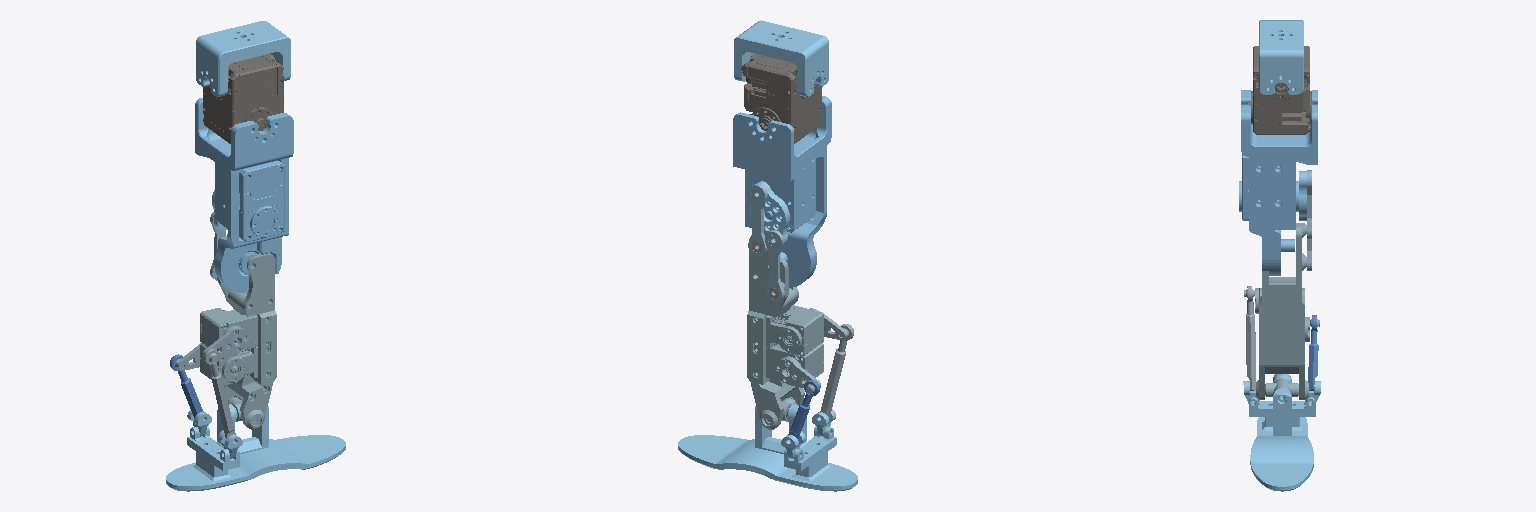
--- Render facts (derived) ---
3 views of the same robot in one strip: view 1: azimuth 30°, elevation 25°; view 2: azimuth 150°, elevation 25°; view 3: azimuth 270°, elevation 25° (orthographic).
Model right_leg_XM430 with 18 links and 17 joints (16 revolute, 1 fixed), rooted at hip_yaw_link, posed every joint at zero.
Visible links, largest first — view 1: right_hip_pitch_link_xm430, right_calf_link, right_sole_link, hip_roll_link, hip_yaw_link, ank_roll_link, ank_motor_rod_long, ank_motor_arm, ank_motor_rod_short; view 2: right_hip_pitch_link_xm430, right_calf_link, right_sole_link, hip_roll_link, hip_yaw_link, ank_roll_link, knee_rod, knee_rod_2, xm430_plate, ank_motor_rod_long, ank_motor_arm_2, ank_motor_rod_short; view 3: right_hip_pitch_link_xm430, right_calf_link, right_sole_link, hip_yaw_link, hip_roll_link, ank_roll_link, ank_motor_rod_long, ank_motor_rod_short.
Link boxes in pixels (x1,y1,x2,y2): right_hip_pitch_link_xm430: (195,98,293,292); right_calf_link: (200,253,276,429); right_sole_link: (166,435,345,491); hip_roll_link: (203,54,283,143); hip_yaw_link: (196,21,290,96); ank_roll_link: (187,404,268,470); ank_motor_rod_long: (204,348,235,438); ank_motor_arm: (203,327,248,362); ank_motor_rod_short: (170,354,202,418); right_hip_pitch_link_xm430: (733,96,831,287); right_calf_link: (747,239,823,429); right_sole_link: (678,435,857,491); hip_roll_link: (741,54,821,143); hip_yaw_link: (734,20,828,96); ank_roll_link: (755,404,836,470); knee_rod: (748,184,767,256); knee_rod_2: (765,230,784,302); xm430_plate: (749,181,789,243); ank_motor_rod_long: (820,324,853,418); ank_motor_arm_2: (775,358,820,393); ank_motor_rod_short: (788,380,819,438); right_hip_pitch_link_xm430: (1239,90,1317,275); right_calf_link: (1256,223,1308,399); right_sole_link: (1250,417,1313,491); hip_yaw_link: (1259,20,1303,94); hip_roll_link: (1248,46,1312,134); ank_roll_link: (1249,374,1315,435); ank_motor_rod_long: (1246,286,1255,390); ank_motor_rod_short: (1308,315,1318,390).
Size in the robot's own frame: 0.12 by 0.0516 by 0.285 metres.
Meshes: 18 distinct files referenced, 18 mesh visuals loaded (18 binary STL).

The robot description file, URDF, robot "right_leg_XM430":
<?xml version="1.0" ?><robot name="right_leg_XM430">  
  <link name="hip_yaw_link">    
    <visual>      
      <origin xyz="0 0 0" rpy="0 -0 0"/>      
      <geometry>        
        <mesh filename="package:///meshes/right_hip_yaw_link_visual.stl"/>        
      </geometry>      
      <material name="hip_yaw_link_material">        
        <color rgba="0.61568627450980395466 0.81176470588235294379 0.92941176470588238168 1.0"/>        
      </material>      
    </visual>    
    <collision>      
      <origin xyz="0 0 0" rpy="0 -0 0"/>      
      <geometry>        
        <mesh filename="package:///meshes/right_hip_yaw_link_collision.stl"/>        
      </geometry>      
    </collision>    
    <inertial>      
      <origin xyz="-6.7015689604249926662e-20 4.3918015011849180404e-19 -0.0098390489054829104176" rpy="0 0 0"/>      
      <mass value="0.017999999999999995171"/>      
      <inertia ixx="2.638503389144253662e-06" ixy="0" ixz="0" iyy="7.6596731957046890345e-06" iyz="0" izz="7.7220708070894769837e-06"/>      
    </inertial>    
  </link>  

  <link name="hip_roll_link">    
    <visual>      
      <origin xyz="0 0 0" rpy="0 -0 0"/>      
      <geometry>        
        <mesh filename="package:///meshes/right_hip_roll_link_visual.stl"/>        
      </geometry>      
      <material name="hip_roll_link_material">        
        <color rgba="0.51698661238356036218 0.50347815951093466413 0.49050589017722012741 1.0"/>        
      </material>      
    </visual>    
    <collision>      
      <origin xyz="0 0 0" rpy="0 -0 0"/>      
      <geometry>        
        <mesh filename="package:///meshes/right_hip_roll_link_collision.stl"/>        
      </geometry>      
    </collision>    
    <inertial>      
      <origin xyz="-0.011999849582182768939 -0.00049598090794319320881 -0.018504111838597472883" rpy="0 0 0"/>      
      <mass value="0.10699970659110669136"/>      
      <inertia ixx="2.2075996228675266026e-05" ixy="-4.50058018289495008e-08" ixz="-4.5362214342475956034e-08" iyy="2.9866686933523323838e-05" iyz="-5.5606319466522003496e-07" izz="2.9866720157735093328e-05"/>      
    </inertial>    
  </link>  

  <link name="right_hip_pitch_link_xm430">    
    <visual>      
      <origin xyz="0 0 0" rpy="0 -0 0"/>      
      <geometry>        
        <mesh filename="package:///meshes/right_hip_pitch_link_xm430_visual.stl"/>        
      </geometry>      
      <material name="right_hip_pitch_link_xm430_material">        
        <color rgba="0.57975821272406502516 0.77143728959223789587 0.90851483081009554166 1.0"/>        
      </material>      
    </visual>    
    <collision>      
      <origin xyz="0 0 0" rpy="0 -0 0"/>      
      <geometry>        
        <mesh filename="package:///meshes/right_hip_pitch_link_xm430_collision.stl"/>        
      </geometry>      
    </collision>    
    <inertial>      
      <origin xyz="0.0025369940892301435544 -0.053177222976062685222 -0.015212667045966776422" rpy="0 0 0"/>      
      <mass value="0.029200901345856088154"/>      
      <inertia ixx="4.1359210165692305292e-05" ixy="2.8846904860009788469e-07" ixz="3.5209134634345168732e-09" iyy="9.0572095101179097984e-06" iyz="1.6889923798545578151e-06" izz="4.074145340165466261e-05"/>      
    </inertial>    
  </link>  

  <link name="right_calf_link">    
    <visual>      
      <origin xyz="0 0 0" rpy="0 -0 0"/>      
      <geometry>        
        <mesh filename="package:///meshes/right_calf_link_visual.stl"/>        
      </geometry>      
      <material name="right_calf_link_material">        
        <color rgba="0.61177930930733637194 0.71653254923097875473 0.74989274724786592063 1.0"/>        
      </material>      
    </visual>    
    <collision>      
      <origin xyz="0 0 0" rpy="0 -0 0"/>      
      <geometry>        
        <mesh filename="package:///meshes/right_calf_link_collision.stl"/>        
      </geometry>      
    </collision>    
    <inertial>      
      <origin xyz="0.0011880884108858465187 0.049643066575010608155 -0.0098634853265740091155" rpy="0 0 0"/>      
      <mass value="0.079607494529051442411"/>      
      <inertia ixx="4.8056790185738505847e-05" ixy="-3.5190664140523731458e-06" ixz="3.9918569370880469757e-07" iyy="1.4293033414473552055e-05" iyz="-4.8654596308570628042e-07" izz="5.1185953583038329819e-05"/>      
    </inertial>    
  </link>  

  <link name="bearing_683">    
    <visual>      
      <origin xyz="0 0 0" rpy="0 -0 0"/>      
      <geometry>        
        <mesh filename="package:///meshes/right_bearing_683_visual.stl"/>        
      </geometry>      
      <material name="bearing_683_material">        
        <color rgba="0.64705882352941179736 0.64705882352941179736 0.64705882352941179736 1.0"/>        
      </material>      
    </visual>    
    <collision>      
      <origin xyz="0 0 0" rpy="0 -0 0"/>      
      <geometry>        
        <mesh filename="package:///meshes/right_bearing_683_collision.stl"/>        
      </geometry>      
    </collision>    
    <inertial>      
      <origin xyz="1.0732094295238763188e-19 2.4186774283159686951e-19 -0.0015499999999999982108" rpy="0 0 0"/>      
      <mass value="0.00048694686130641793437"/>      
      <inertia ixx="2.1551456503319887385e-09" ixy="-2.9294495027892568051e-27" ixz="9.2988683363002032047e-39" iyy="2.1551456503319891521e-09" iyz="-6.9734227591432482265e-38" izz="3.5303647444715305817e-09"/>      
    </inertial>    
  </link>  

  <joint name="right_knee_front_rev_2" type="revolute">    
    <origin xyz="-0.0057402514854763431879 -0.013858192987669298857 -0.026199999999999994127" rpy="-5.4477346283033895825e-15 1.0965747154702311575e-14 3.1358007158040965834"/>    
    <parent link="right_calf_link"/>    
    <child link="bearing_683"/>    
    <axis xyz="0 0 1"/>    
    <limit effort="1" velocity="20" lower="-6.283185307179586232" upper="6.283185307179586232"/>    
    <joint_properties friction="0.0"/>    
  </joint>  

  <link name="bearing_683_2">    
    <visual>      
      <origin xyz="0 0 0" rpy="0 -0 0"/>      
      <geometry>        
        <mesh filename="package:///meshes/right_bearing_683_2_visual.stl"/>        
      </geometry>      
      <material name="bearing_683_2_material">        
        <color rgba="0.64705882352941179736 0.64705882352941179736 0.64705882352941179736 1.0"/>        
      </material>      
    </visual>    
    <collision>      
      <origin xyz="0 0 0" rpy="0 -0 0"/>      
      <geometry>        
        <mesh filename="package:///meshes/right_bearing_683_2_collision.stl"/>        
      </geometry>      
    </collision>    
    <inertial>      
      <origin xyz="9.7468268094080836801e-19 2.4186774283165874001e-19 -0.0015499999999999977771" rpy="0 0 0"/>      
      <mass value="0.00048694686130641793437"/>      
      <inertia ixx="2.1551456503319887385e-09" ixy="-1.2055502399488045527e-29" ixz="6.0530663080618900365e-38" iyy="2.1551456503319891521e-09" iyz="6.329646417650877137e-38" izz="3.5303647444715322361e-09"/>      
    </inertial>    
  </link>  

  <joint name="right_knee_back_rev_2" type="revolute">    
    <origin xyz="0.0057402514854763726782 0.013858192987669298857 -0.026200000000000001066" rpy="-1.8771482682971376925e-15 -9.8530873122510239724e-18 3.1357969761587902724"/>    
    <parent link="right_calf_link"/>    
    <child link="bearing_683_2"/>    
    <axis xyz="0 0 1"/>    
    <limit effort="1" velocity="20" lower="-6.283185307179586232" upper="6.283185307179586232"/>    
    <joint_properties friction="0.0"/>    
  </joint>  

  <link name="ank_pitch_link">    
    <visual>      
      <origin xyz="0 0 0" rpy="0 -0 0"/>      
      <geometry>        
        <mesh filename="package:///meshes/right_ank_pitch_link_visual.stl"/>        
      </geometry>      
      <material name="ank_pitch_link_material">        
        <color rgba="0.63189161126160264814 0.7266866879354088038 0.78356373393969258601 1.0"/>        
      </material>      
    </visual>    
    <collision>      
      <origin xyz="0 0 0" rpy="0 -0 0"/>      
      <geometry>        
        <mesh filename="package:///meshes/right_ank_pitch_link_collision.stl"/>        
      </geometry>      
    </collision>    
    <inertial>      
      <origin xyz="0.00059528282565905667884 -4.0269682589415725122e-08 7.7616094188425227177e-08" rpy="0 0 0"/>      
      <mass value="0.0042238381753791614387"/>      
      <inertia ixx="3.9782741364675321991e-07" ixy="-1.6834347649910148831e-13" ixz="2.0919192021941485552e-14" iyy="4.3705254067418651898e-07" iyz="-1.6428822141780806979e-12" izz="8.8858574534600111529e-08"/>      
    </inertial>    
  </link>  

  <link name="ank_roll_link">    
    <visual>      
      <origin xyz="0 0 0" rpy="0 -0 0"/>      
      <geometry>        
        <mesh filename="package:///meshes/right_ank_roll_link_visual.stl"/>        
      </geometry>      
      <material name="ank_roll_link_material">        
        <color rgba="0.61568627450980395466 0.81176470588235294379 0.92941176470588238168 1.0"/>        
      </material>      
    </visual>    
    <collision>      
      <origin xyz="0 0 0" rpy="0 -0 0"/>      
      <geometry>        
        <mesh filename="package:///meshes/right_ank_roll_link_collision.stl"/>        
      </geometry>      
    </collision>    
    <inertial>      
      <origin xyz="-3.374897775305092037e-09 0.016071733707723714207 -0.0096236810250137777567" rpy="0 0 0"/>      
      <mass value="0.010900000000000006906"/>      
      <inertia ixx="2.6058536057764959133e-06" ixy="-5.4054321086197607014e-13" ixz="6.0692549095841946231e-13" iyy="2.5928781338360460482e-06" iyz="3.9359839679282425038e-07" izz="1.6179884211196010928e-06"/>      
    </inertial>    
  </link>  

  <link name="ank_rr_link">    
    <visual>      
      <origin xyz="0 0 0" rpy="0 -0 0"/>      
      <geometry>        
        <mesh filename="package:///meshes/right_ank_rr_link_visual.stl"/>        
      </geometry>      
      <material name="ank_rr_link_material">        
        <color rgba="0.61568627450980395466 0.81176470588235294379 0.92941176470588238168 1.0"/>        
      </material>      
    </visual>    
    <collision>      
      <origin xyz="0 0 0" rpy="0 -0 0"/>      
      <geometry>        
        <mesh filename="package:///meshes/right_ank_rr_link_collision.stl"/>        
      </geometry>      
    </collision>    
    <inertial>      
      <origin xyz="-4.5249610960602422048e-05 -0.0063096429836314027462 1.9359077708117763666e-19" rpy="0 0 0"/>      
      <mass value="0.0014499999999999999001"/>      
      <inertia ixx="2.9739579267716163268e-08" ixy="-2.4213146797978005064e-10" ixz="-3.5523394884482601788e-14" iyy="2.7430027724071950438e-08" iyz="-9.2286660723348399955e-32" izz="4.2921949116163665819e-08"/>      
    </inertial>    
  </link>  

  <link name="ank_motor_rod_long">    
    <visual>      
      <origin xyz="0 0 0" rpy="0 -0 0"/>      
      <geometry>        
        <mesh filename="package:///meshes/right_ank_motor_rod_long_visual.stl"/>        
      </geometry>      
      <material name="ank_motor_rod_long_material">        
        <color rgba="0.63549975559783222767 0.7077439301702044272 0.75109043491362781353 1.0"/>        
      </material>      
    </visual>    
    <collision>      
      <origin xyz="0 0 0" rpy="0 -0 0"/>      
      <geometry>        
        <mesh filename="package:///meshes/right_ank_motor_rod_long_collision.stl"/>        
      </geometry>      
    </collision>    
    <inertial>      
      <origin xyz="2.4855086429196933828e-10 0.034559019974062202274 0.00093851704878448538941" rpy="0 0 0"/>      
      <mass value="0.0021712857268636714773"/>      
      <inertia ixx="8.5350290057999892598e-07" ixy="1.4884244311377931608e-14" ixz="4.5749525025513695314e-11" iyy="1.3237321792739358999e-08" iyz="-4.3668910960836045554e-09" izz="8.5812217519451249942e-07"/>      
    </inertial>    
  </link>  

  <joint name="right_ank_long_rev_2" type="revolute">    
    <origin xyz="3.4694469519536141888e-18 -0.0099999999999998423483 1.0408340855860842566e-17" rpy="-1.570796326794896558 -1.3320366994106278558 -1.5707963267948821251"/>    
    <parent link="ank_rr_link"/>    
    <child link="ank_motor_rod_long"/>    
    <axis xyz="0 0 1"/>    
    <limit effort="1" velocity="20" lower="-1.570796326794896558" upper="1.570796326794896558"/>    
    <joint_properties friction="0.0"/>    
  </joint>  

  <joint name="right_ank_long_rev_1" type="revolute">    
    <origin xyz="0.017999999999999988232 0.016000000000000014211 -0.020600000000000014133" rpy="-6.5592393894058373872e-17 4.425192650031777037e-16 0.01822308504299342824"/>    
    <parent link="ank_roll_link"/>    
    <child link="ank_rr_link"/>    
    <axis xyz="0 0 1"/>    
    <limit effort="1" velocity="20" lower="-1.570796326794896558" upper="1.570796326794896558"/>    
    <joint_properties friction="0.0"/>    
  </joint>  

  <link name="ank_rr_link_2">    
    <visual>      
      <origin xyz="0 0 0" rpy="0 -0 0"/>      
      <geometry>        
        <mesh filename="package:///meshes/right_ank_rr_link_2_visual.stl"/>        
      </geometry>      
      <material name="ank_rr_link_2_material">        
        <color rgba="0.61568627450980395466 0.81176470588235294379 0.92941176470588238168 1.0"/>        
      </material>      
    </visual>    
    <collision>      
      <origin xyz="0 0 0" rpy="0 -0 0"/>      
      <geometry>        
        <mesh filename="package:///meshes/right_ank_rr_link_2_collision.stl"/>        
      </geometry>      
    </collision>    
    <inertial>      
      <origin xyz="-4.524961096060238139e-05 0.0063096429836314027462 -1.9359077708145472983e-19" rpy="0 0 0"/>      
      <mass value="0.0014499999999999999001"/>      
      <inertia ixx="2.9739579267716150033e-08" ixy="2.4213146797978025744e-10" ixz="3.5523394884482595477e-14" iyy="2.7430027724071950438e-08" iyz="5.6282437144470795625e-32" izz="4.2921949116163665819e-08"/>      
    </inertial>    
  </link>  

  <link name="ank_motor_rod_short">    
    <visual>      
      <origin xyz="0 0 0" rpy="0 -0 0"/>      
      <geometry>        
        <mesh filename="package:///meshes/right_ank_motor_rod_short_visual.stl"/>        
      </geometry>      
      <material name="ank_motor_rod_short_material">        
        <color rgba="0.41222606689734714314 0.58339100346020755783 0.8110726643598615837 1.0"/>        
      </material>      
    </visual>    
    <collision>      
      <origin xyz="0 0 0" rpy="0 -0 0"/>      
      <geometry>        
        <mesh filename="package:///meshes/right_ank_motor_rod_short_collision.stl"/>        
      </geometry>      
    </collision>    
    <inertial>      
      <origin xyz="2.6038939217395135539e-10 0.023830465465871003561 0.0009040350635961763668" rpy="0 0 0"/>      
      <mass value="0.0017000000000000005558"/>      
      <inertia ixx="3.3153416252670696522e-07" ixy="8.7419773793873309686e-15" ixz="4.5749941567750892577e-11" iyy="1.0947363610305942965e-08" iyz="-3.5863098646396907895e-09" izz="3.3621340447865776674e-07"/>      
    </inertial>    
  </link>  

  <joint name="right_ank_short_rev_2" type="revolute">    
    <origin xyz="3.4694469519536141888e-18 0.010000000000000008882 -6.9388939039072283776e-18" rpy="-1.570796326794896558 1.211913386290874195 -1.5707963267949693886"/>    
    <parent link="ank_rr_link_2"/>    
    <child link="ank_motor_rod_short"/>    
    <axis xyz="0 0 1"/>    
    <limit effort="1" velocity="20" lower="-1.570796326794896558" upper="1.570796326794896558"/>    
    <joint_properties friction="0.0"/>    
  </joint>  

  <joint name="right_ank_short_rev_1" type="revolute">    
    <origin xyz="-0.018000000000000015987 0.016000000000000069722 -0.020599999999999996786" rpy="-5.1243183935211302546e-15 2.3393195508611717606e-14 3.115474105082493228"/>    
    <parent link="ank_roll_link"/>    
    <child link="ank_rr_link_2"/>    
    <axis xyz="0 0 1"/>    
    <limit effort="1" velocity="20" lower="-1.570796326794896558" upper="1.570796326794896558"/>    
    <joint_properties friction="0.0"/>    
  </joint>  

  <link name="right_sole_link">    
    <visual>      
      <origin xyz="0 0 0" rpy="0 -0 0"/>      
      <geometry>        
        <mesh filename="package:///meshes/right_sole_link_visual.stl"/>        
      </geometry>      
      <material name="right_sole_link_material">        
        <color rgba="0.61568627450980395466 0.81176470588235294379 0.92941176470588238168 1.0"/>        
      </material>      
    </visual>    
    <collision>      
      <origin xyz="0 0 0" rpy="0 -0 0"/>      
      <geometry>        
        <mesh filename="package:///meshes/right_sole_link_collision.stl"/>        
      </geometry>      
    </collision>    
    <inertial>      
      <origin xyz="-0.02826922064948917887 -7.4209810882872538916e-08 -0.010206288127740055505" rpy="0 0 0"/>      
      <mass value="0.013900000000000004366"/>      
      <inertia ixx="1.316069070887124095e-06" ixy="-1.0226444191973209573e-10" ixz="-2.3744136049829838944e-07" iyy="1.3575381226152454021e-05" iyz="-7.1602330637823177879e-13" izz="1.4673427099197175005e-05"/>      
    </inertial>    
  </link>  

  <joint name="right_sole" type="fixed">    
    <origin xyz="-8.9988780316296868023e-18 0.025000000000000022204 -0.022600000000000002032" rpy="1.5707963267948985564 1.5707963267948945596 0"/>    
    <parent link="ank_roll_link"/>    
    <child link="right_sole_link"/>    
    <axis xyz="0 0 1"/>    
    <limit effort="1" velocity="20"/>    
    <joint_properties friction="0.0"/>    
  </joint>  

  <joint name="right_ank_roll" type="revolute">    
    <origin xyz="0.0014999999999999998144 2.7755575615628913511e-17 -1.4419888894057208972e-17" rpy="-3.141592653589793116 -1.5707963267948947816 0"/>    
    <parent link="ank_pitch_link"/>    
    <child link="ank_roll_link"/>    
    <axis xyz="0 0 1"/>    
    <limit effort="1" velocity="20" lower="-0.785398163397448279" upper="0.785398163397448279"/>    
    <joint_properties friction="0.0"/>    
  </joint>  

  <joint name="right_ank_pitch" type="revolute">    
    <origin xyz="2.5458137454050591327e-17 0.10000000000000003331 -0.010400000000000018605" rpy="1.5825612599836936462e-15 -6.6613381503165742443e-16 -3.1415926535897873428"/>    
    <parent link="right_calf_link"/>    
    <child link="ank_pitch_link"/>    
    <axis xyz="0 0 1"/>    
    <limit effort="1" velocity="20" lower="-0.785398163397448279" upper="0.95993108859688125456"/>    
    <joint_properties friction="0.0"/>    
  </joint>  

  <link name="ank_motor_arm">    
    <visual>      
      <origin xyz="0 0 0" rpy="0 -0 0"/>      
      <geometry>        
        <mesh filename="package:///meshes/right_ank_motor_arm_visual.stl"/>        
      </geometry>      
      <material name="ank_motor_arm_material">        
        <color rgba="0.62517751827980905244 0.70593642422614044651 0.75978993426662777555 1.0"/>        
      </material>      
    </visual>    
    <collision>      
      <origin xyz="0 0 0" rpy="0 -0 0"/>      
      <geometry>        
        <mesh filename="package:///meshes/right_ank_motor_arm_collision.stl"/>        
      </geometry>      
    </collision>    
    <inertial>      
      <origin xyz="0.014511489101591685397 -1.2304772143439285592e-18 0.0040925443765950624692" rpy="0 0 0"/>      
      <mass value="0.0020595846677894939954"/>      
      <inertia ixx="2.7591836756521888913e-08" ixy="-5.9964751007237139186e-24" ixz="-3.0270788206594808798e-08" iyy="1.6138599216238429997e-07" iyz="-1.0580171637286161896e-23" izz="1.6437836765016284887e-07"/>      
    </inertial>    
  </link>  

  <joint name="right_ank_act_1" type="revolute">    
    <origin xyz="0.013499999999996532135 0.044500000000006922907 0.0040000000000042501558" rpy="-3.1437427131281823257e-13 -4.4003633570199104585e-14 0.21173394130151781956"/>    
    <parent link="right_calf_link"/>    
    <child link="ank_motor_arm"/>    
    <axis xyz="0 0 1"/>    
    <limit effort="1" velocity="20" lower="-1.3089969389957472057" upper="1.3089969389957472057"/>    
    <joint_properties friction="0.0"/>    
  </joint>  

  <link name="ank_motor_arm_2">    
    <visual>      
      <origin xyz="0 0 0" rpy="0 -0 0"/>      
      <geometry>        
        <mesh filename="package:///meshes/right_ank_motor_arm_2_visual.stl"/>        
      </geometry>      
      <material name="ank_motor_arm_2_material">        
        <color rgba="0.62517751827980905244 0.70593642422614044651 0.75978993426662777555 1.0"/>        
      </material>      
    </visual>    
    <collision>      
      <origin xyz="0 0 0" rpy="0 -0 0"/>      
      <geometry>        
        <mesh filename="package:///meshes/right_ank_motor_arm_2_collision.stl"/>        
      </geometry>      
    </collision>    
    <inertial>      
      <origin xyz="0.014511489101591685397 4.5584079062740652548e-19 0.0040925443765950642039" rpy="0 0 0"/>      
      <mass value="0.0020595846677894939954"/>      
      <inertia ixx="2.7591836756521965014e-08" ixy="-3.0026020760096009728e-23" ixz="-3.0270788206594841885e-08" iyy="1.613859921623843529e-07" iyz="-6.8768720166424008923e-24" izz="1.6437836765016284887e-07"/>      
    </inertial>    
  </link>  

  <joint name="right_ank_act_2" type="revolute">    
    <origin xyz="0.013500000000004223899 0.06450000000000813416 -0.024800000000001803241" rpy="-3.1415926535895222216 -2.1045472835494036236e-13 0.22995607267266512941"/>    
    <parent link="right_calf_link"/>    
    <child link="ank_motor_arm_2"/>    
    <axis xyz="0 0 1"/>    
    <limit effort="1" velocity="20" lower="-1.3089969389957472057" upper="1.3089969389957472057"/>    
    <joint_properties friction="0.0"/>    
  </joint>  

  <joint name="right_knee_pitch" type="revolute">    
    <origin xyz="-3.0242154156037831921e-17 -0.096000000000000015876 -0.0091999999999999963751" rpy="1.9802508686334247224e-15 -1.2115308756231608563e-14 3.1415926535897615857"/>    
    <parent link="right_hip_pitch_link_xm430"/>    
    <child link="right_calf_link"/>    
    <axis xyz="0 0 1"/>    
    <limit effort="1" velocity="20" lower="-1.9198621771937625091" upper="0"/>    
    <joint_properties friction="0.0"/>    
  </joint>  

  <link name="xm430_plate">    
    <visual>      
      <origin xyz="0 0 0" rpy="0 -0 0"/>      
      <geometry>        
        <mesh filename="package:///meshes/right_xm430_plate_visual.stl"/>        
      </geometry>      
      <material name="xm430_plate_material">        
        <color rgba="0.61568627450980395466 0.81176470588235294379 0.92941176470588227065 1.0"/>        
      </material>      
    </visual>    
    <collision>      
      <origin xyz="0 0 0" rpy="0 -0 0"/>      
      <geometry>        
        <mesh filename="package:///meshes/right_xm430_plate_collision.stl"/>        
      </geometry>      
    </collision>    
    <inertial>      
      <origin xyz="9.1975985740996841453e-19 1.783860014833551564e-17 -0.0024039046431217955119" rpy="0 0 0"/>      
      <mass value="0.0027000000000000001429"/>      
      <inertia ixx="2.6720434385876688324e-07" ixy="-6.8936588702566387474e-08" ixz="-3.4845808582805296013e-36" iyy="1.2933116645363405536e-07" iyz="-1.1011162650770204514e-36" izz="3.8533537562751439267e-07"/>      
    </inertial>    
  </link>  

  <link name="knee_rod">    
    <visual>      
      <origin xyz="0 0 0" rpy="0 -0 0"/>      
      <geometry>        
        <mesh filename="package:///meshes/right_knee_rod_visual.stl"/>        
      </geometry>      
      <material name="knee_rod_material">        
        <color rgba="0.62711287994822195735 0.75177502733065859619 0.8265723157601205795 1.0"/>        
      </material>      
    </visual>    
    <collision>      
      <origin xyz="0 0 0" rpy="0 -0 0"/>      
      <geometry>        
        <mesh filename="package:///meshes/right_knee_rod_collision.stl"/>        
      </geometry>      
    </collision>    
    <inertial>      
      <origin xyz="0.010967336860938672188 3.1676475513803476272e-05 -0.0015872899055782941843" rpy="0 0 0"/>      
      <mass value="0.0013369468613064179954"/>      
      <inertia ixx="9.6972542174599785294e-09" ixy="-2.6608159054156034333e-10" ixz="3.1323426064377209516e-10" iyy="2.4572580704828929624e-07" iyz="9.0470070491434320118e-13" izz="2.533776609675739859e-07"/>      
    </inertial>    
  </link>  

  <joint name="right_knee_front_rev_1" type="revolute">    
    <origin xyz="-0.005740251485476348392 -0.013858192987669284979 -0.0050000000000000044409" rpy="-1.2384470314426580757e-14 -1.7414957345394515419e-15 1.5650043890091922538"/>    
    <parent link="xm430_plate"/>    
    <child link="knee_rod"/>    
    <axis xyz="0 0 1"/>    
    <limit effort="1" velocity="20" lower="-6.283185307179586232" upper="6.283185307179586232"/>    
    <joint_properties friction="0.0"/>    
  </joint>  

  <link name="knee_rod_2">    
    <visual>      
      <origin xyz="0 0 0" rpy="0 -0 0"/>      
      <geometry>        
        <mesh filename="package:///meshes/right_knee_rod_2_visual.stl"/>        
      </geometry>      
      <material name="knee_rod_2_material">        
        <color rgba="0.62711287994822195735 0.75177502733065859619 0.8265723157601205795 1.0"/>        
      </material>      
    </visual>    
    <collision>      
      <origin xyz="0 0 0" rpy="0 -0 0"/>      
      <geometry>        
        <mesh filename="package:///meshes/right_knee_rod_2_collision.stl"/>        
      </geometry>      
    </collision>    
    <inertial>      
      <origin xyz="0.010967336742326699514 3.1758502723681846197e-05 -0.0015872899055780393968" rpy="0 0 0"/>      
      <mass value="0.0013369468613064179954"/>      
      <inertia ixx="9.6972582027827120085e-09" ixy="-2.6677061413968154947e-10" ixz="3.1323425725317939212e-10" iyy="2.4572580505561670632e-07" iyz="9.0704345416446645418e-13" izz="2.5337766296022052957e-07"/>      
    </inertial>    
  </link>  

  <joint name="right_knee_back_rev_1" type="revolute">    
    <origin xyz="0.0057402514854763509941 0.013858192987669298857 -0.0050000000000000009714" rpy="4.9254694032746774356e-16 3.0156850660129127871e-15 1.5650006493638755067"/>    
    <parent link="xm430_plate"/>    
    <child link="knee_rod_2"/>    
    <axis xyz="0 0 1"/>    
    <limit effort="1" velocity="20" lower="-6.283185307179586232" upper="6.283185307179586232"/>    
    <joint_properties friction="0.0"/>    
  </joint>  

  <joint name="right_knee_act" type="revolute">    
    <origin xyz="0.00014999999999999350875 -0.06150000000000001299 -0.030400000000000010347" rpy="1.3560136669320073081e-26 -9.9920072221372949076e-16 3.1415926535897598093"/>    
    <parent link="right_hip_pitch_link_xm430"/>    
    <child link="xm430_plate"/>    
    <axis xyz="0 0 1"/>    
    <limit effort="1" velocity="20" lower="-1.9198621771937625091" upper="0"/>    
    <joint_properties friction="0.0"/>    
  </joint>  

  <joint name="right_hip_pitch" type="revolute">    
    <origin xyz="-0.024000000716143048141 -0.019000000152443574652 -0.019000000152453549312" rpy="1.5707963267951119413 1.5707963267946947195 0"/>    
    <parent link="hip_roll_link"/>    
    <child link="right_hip_pitch_link_xm430"/>    
    <axis xyz="0 0 1"/>    
    <limit effort="1" velocity="20" lower="-1.570796326794896558" upper="1.570796326794896558"/>    
    <joint_properties friction="0.0"/>    
  </joint>  

  <joint name="right_hip_roll" type="revolute">    
    <origin xyz="-0.018999999999999999528 3.350043889036771243e-18 -0.026000000000000002276" rpy="2.5210948034330457424e-32 -1.5707963267948741315 0"/>    
    <parent link="hip_yaw_link"/>    
    <child link="hip_roll_link"/>    
    <axis xyz="0 0 1"/>    
    <limit effort="1" velocity="20" lower="-0.785398163397448279" upper="1.570796326794896558"/>    
    <joint_properties friction="0.0"/>    
  </joint>  


</robot>
